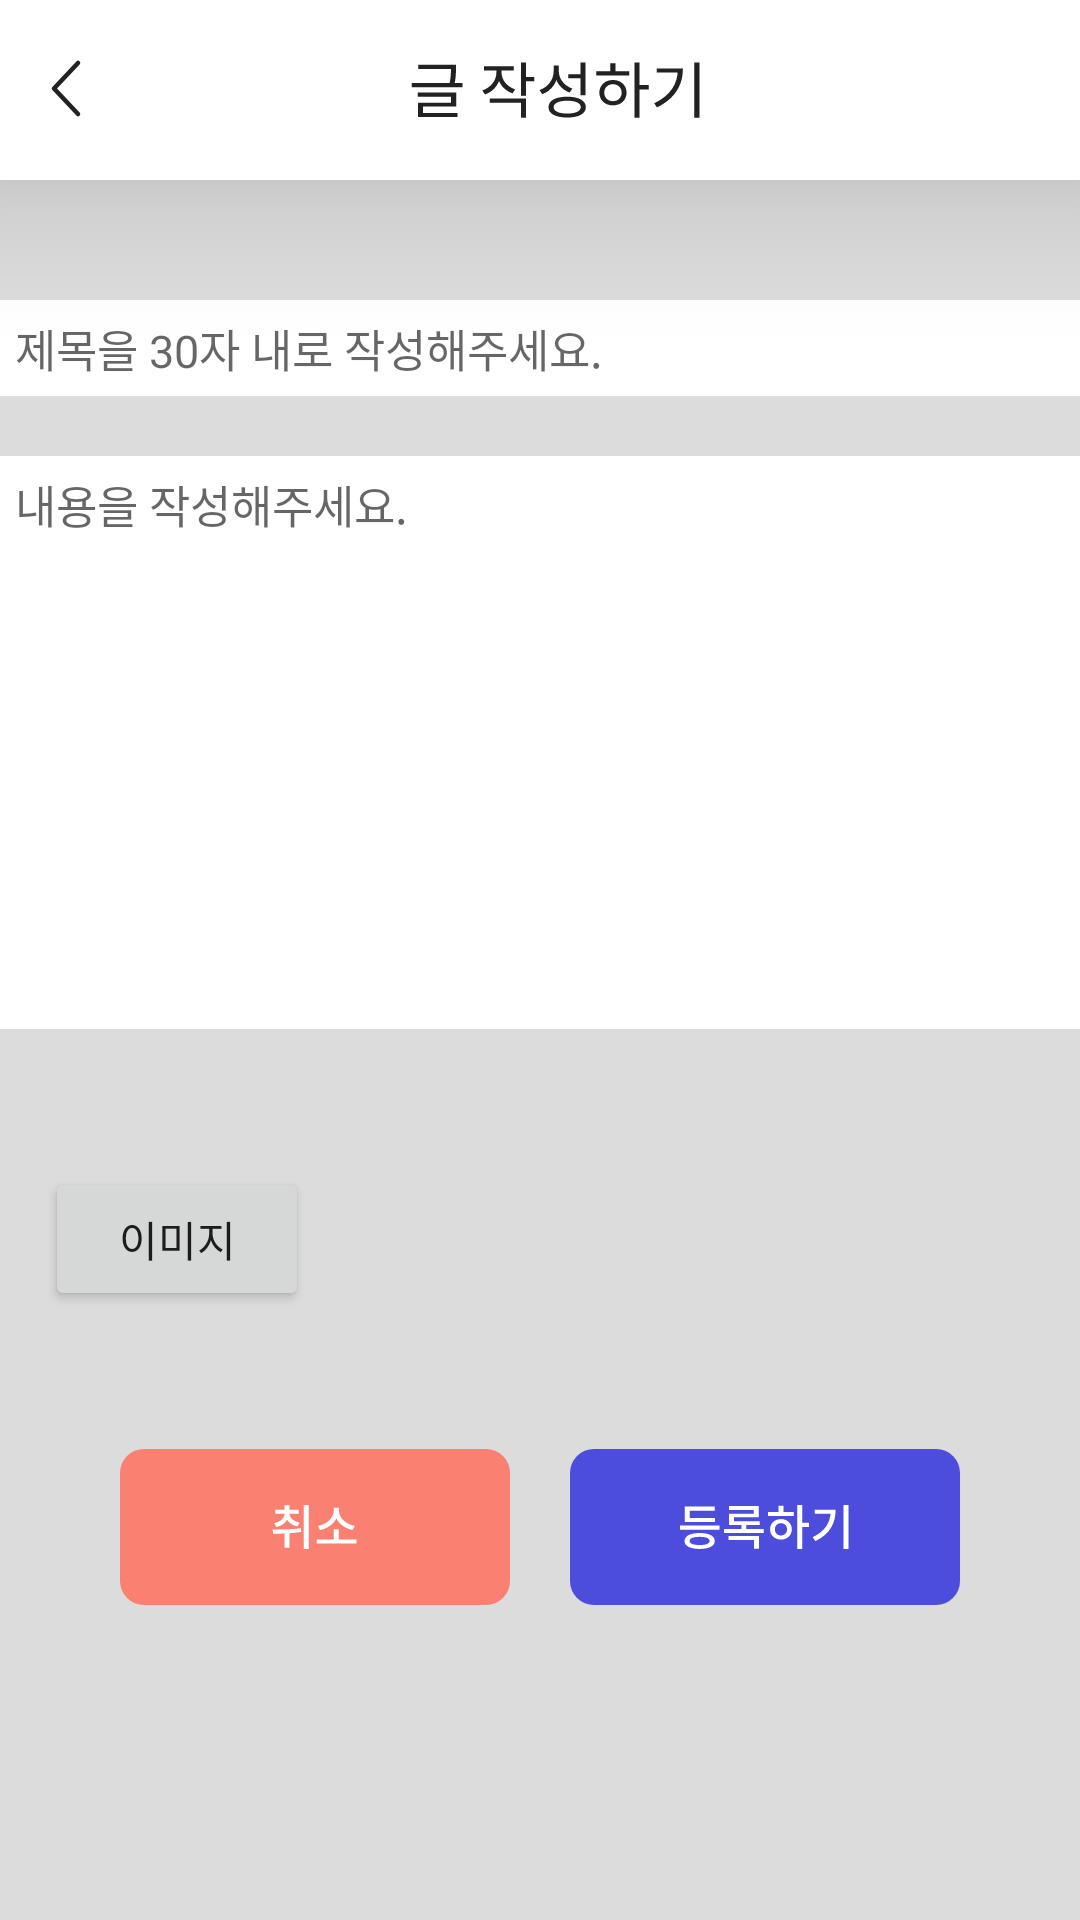

Locate icon controls on the screen. Image size 1080×1920, boxes as (x1, y1, x2, y2).
back: (51, 60, 81, 117)
